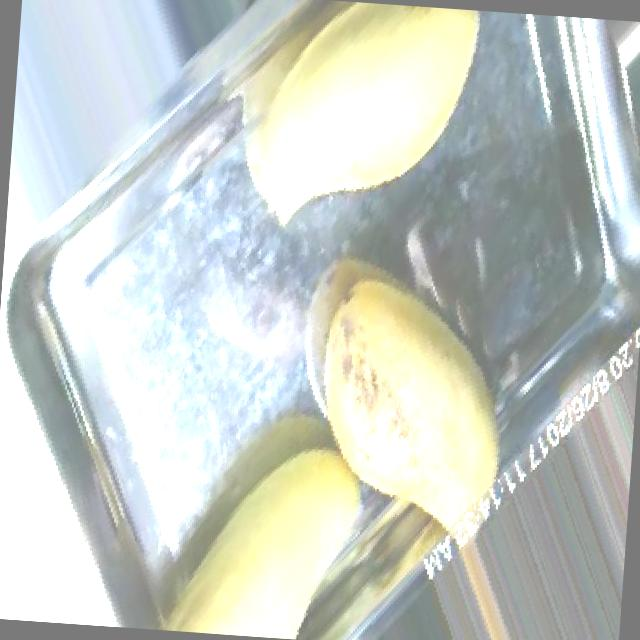Mango: (240, 0, 482, 239), (313, 274, 514, 536), (158, 438, 364, 638)
